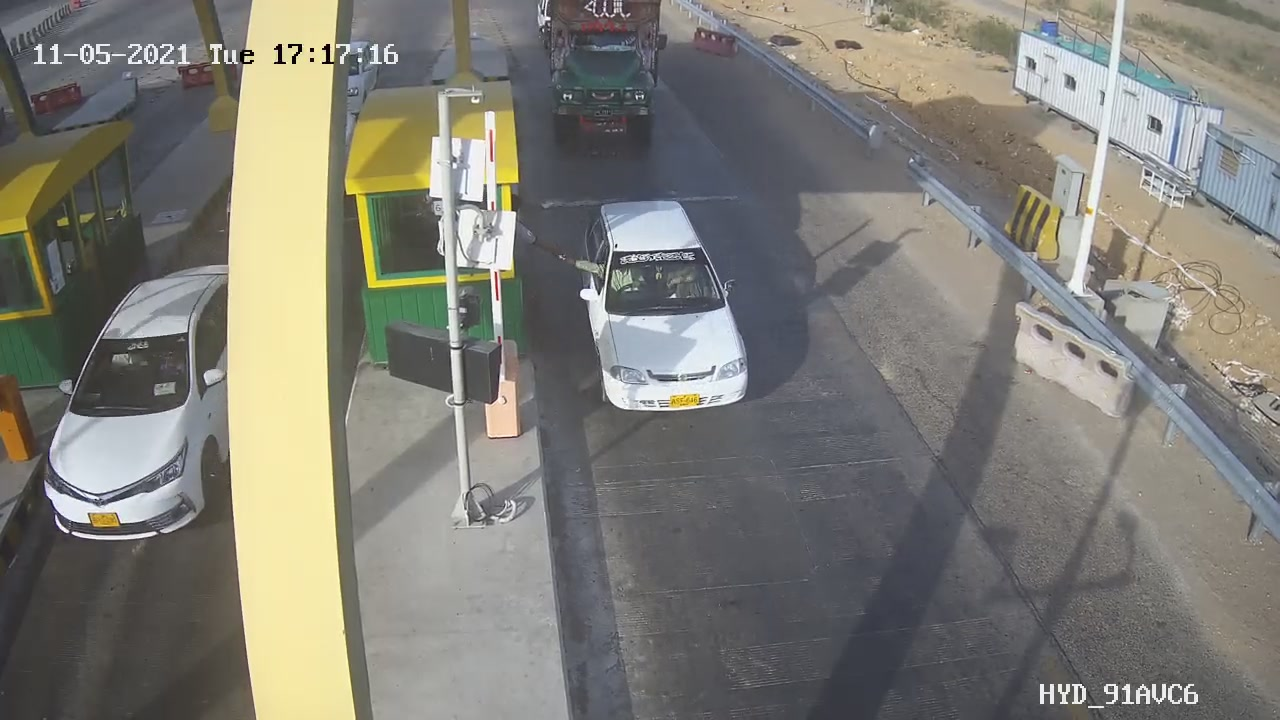F1: (565, 187, 778, 434)
